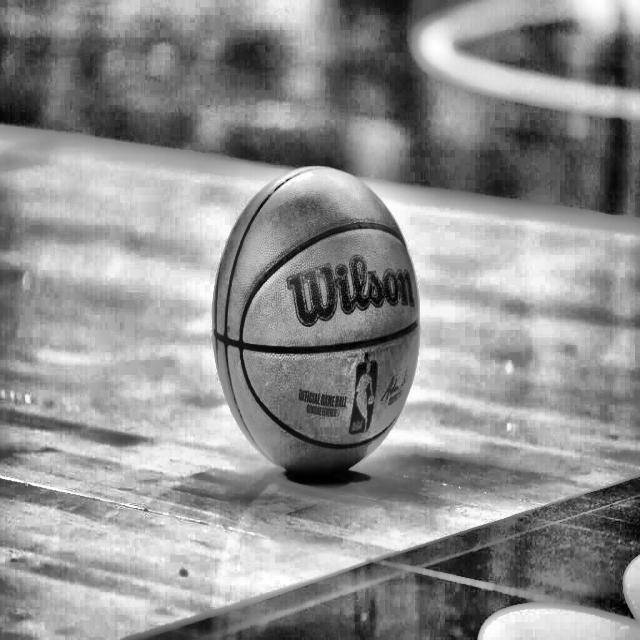Basketball: (213, 168, 420, 473)
